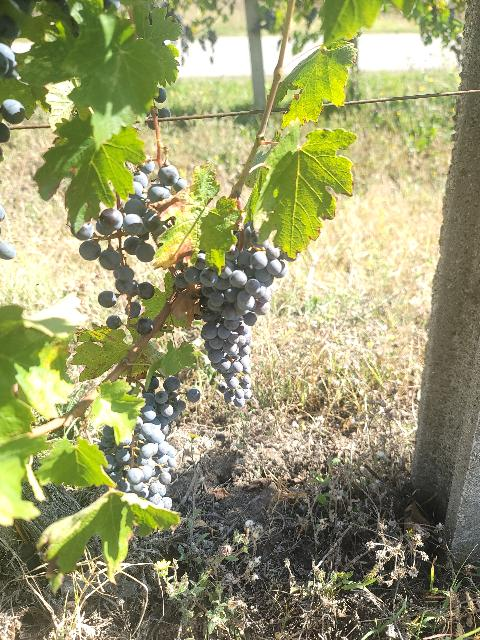grapes: (175, 221, 288, 408), (71, 161, 186, 299), (99, 426, 171, 509), (135, 376, 186, 468)
